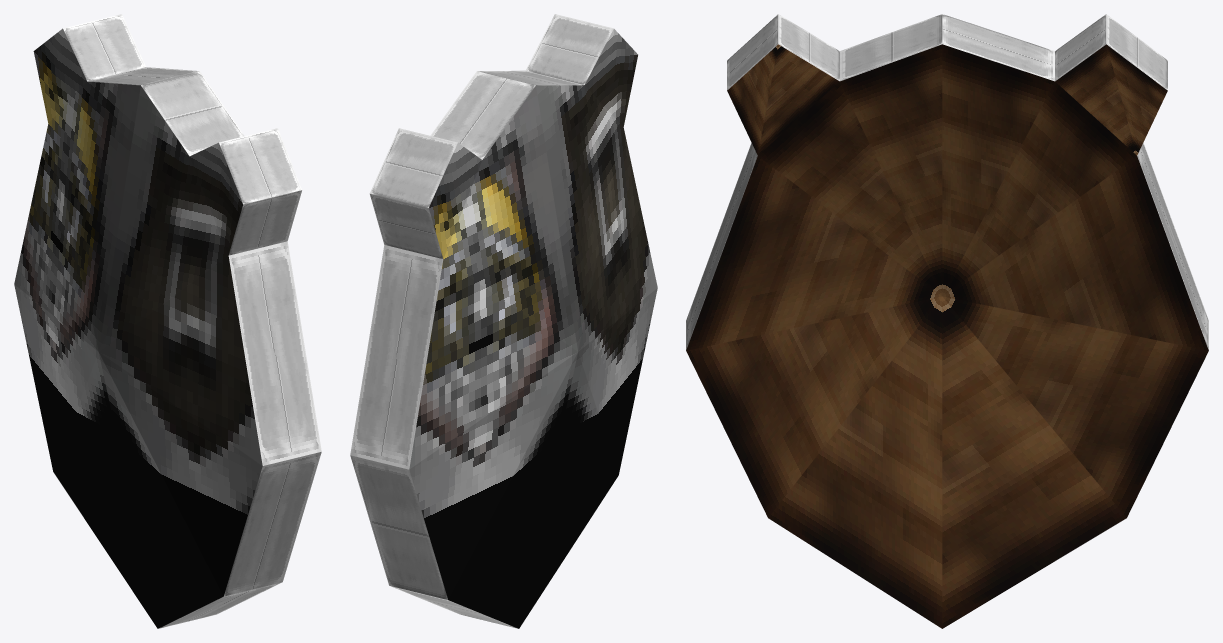
3 renders of one model, left to right at view 1: azimuth 30°, elevation 25°; view 2: azimuth 150°, elevation 25°; view 3: azimuth 270°, elevation 25°, orthographic. The views are drawn at different scales.
Parts seen in each view (by area): view 1: prim084-Object02; view 2: prim084-Object02; view 3: prim084-Object02.
Boxes of the visible parts, x1,y1,x2,y2 form: prim084-Object02: [14, 14, 321, 628]; prim084-Object02: [350, 14, 657, 628]; prim084-Object02: [686, 14, 1208, 628].
Bounding box in the file's own units: 14 × 62 × 51.
Materials: 3 (3 with a texture image).
